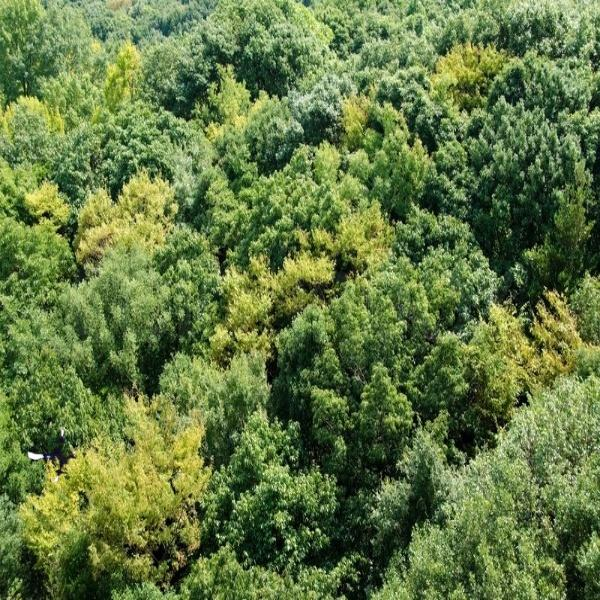drone: (23, 424, 81, 482)
